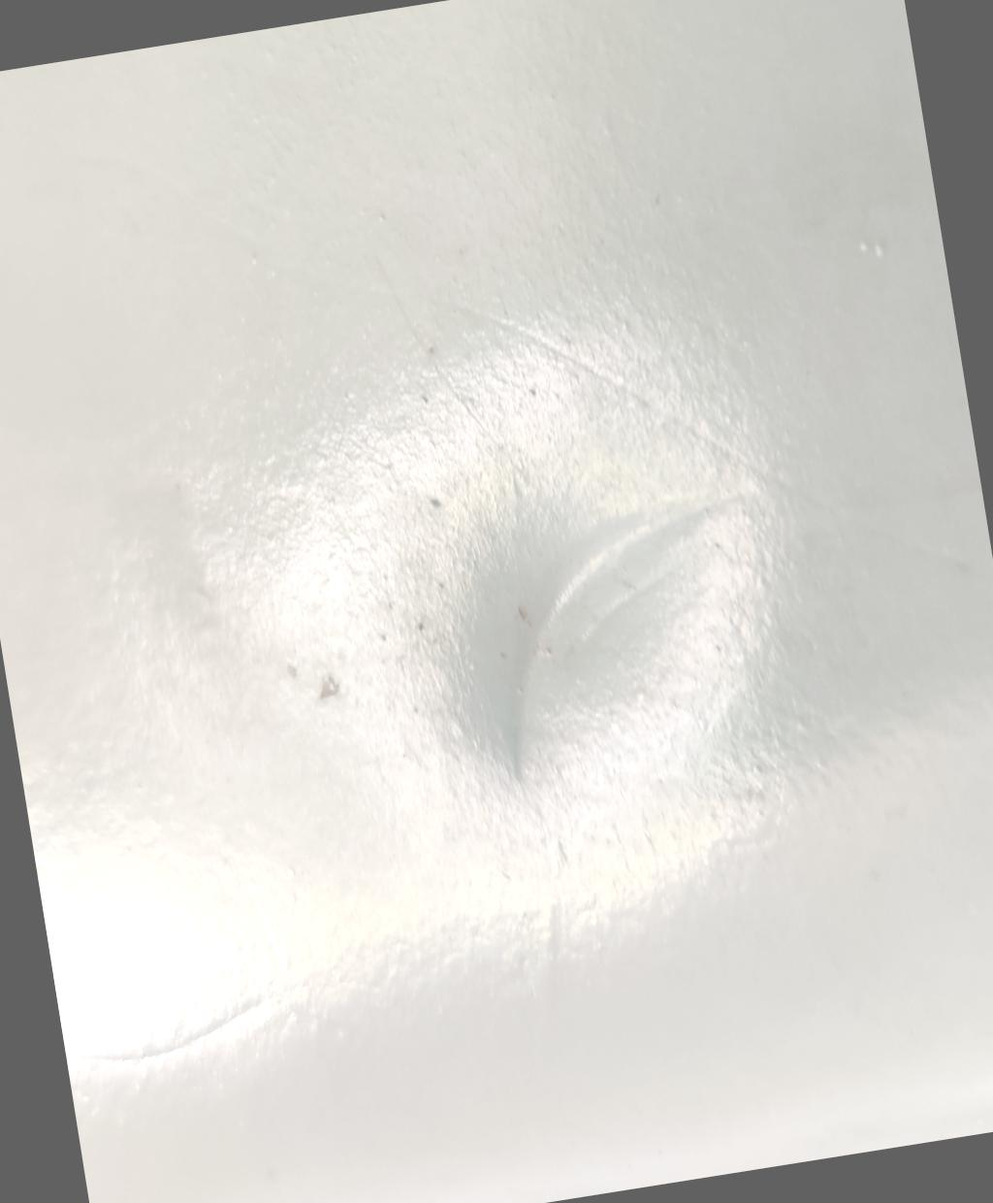dent: (367, 346, 891, 869)
